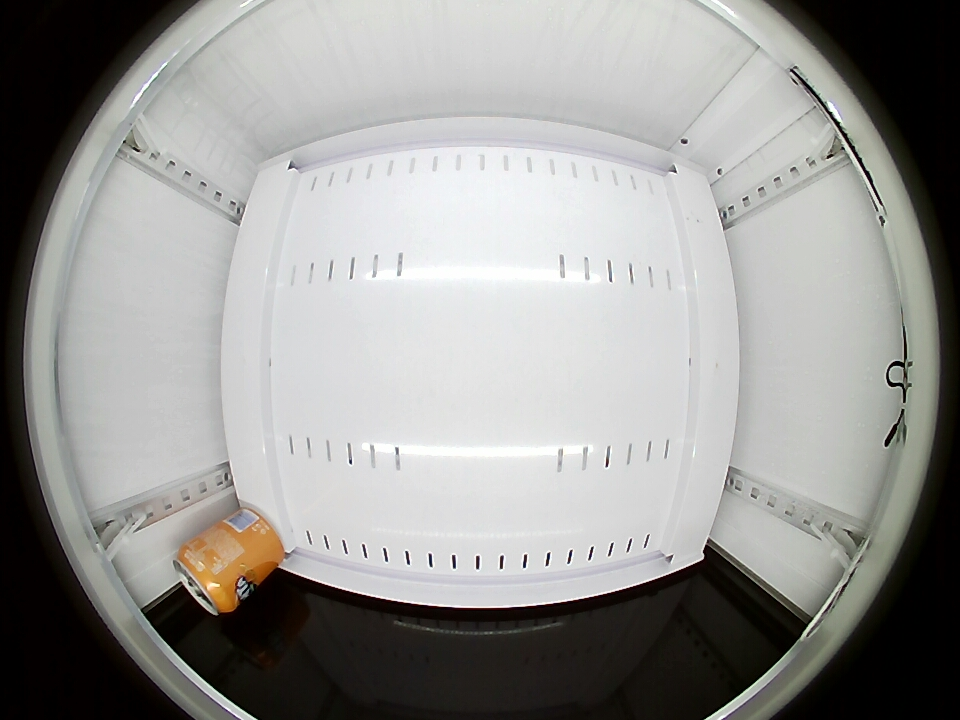fenda: (174, 538, 238, 615)
